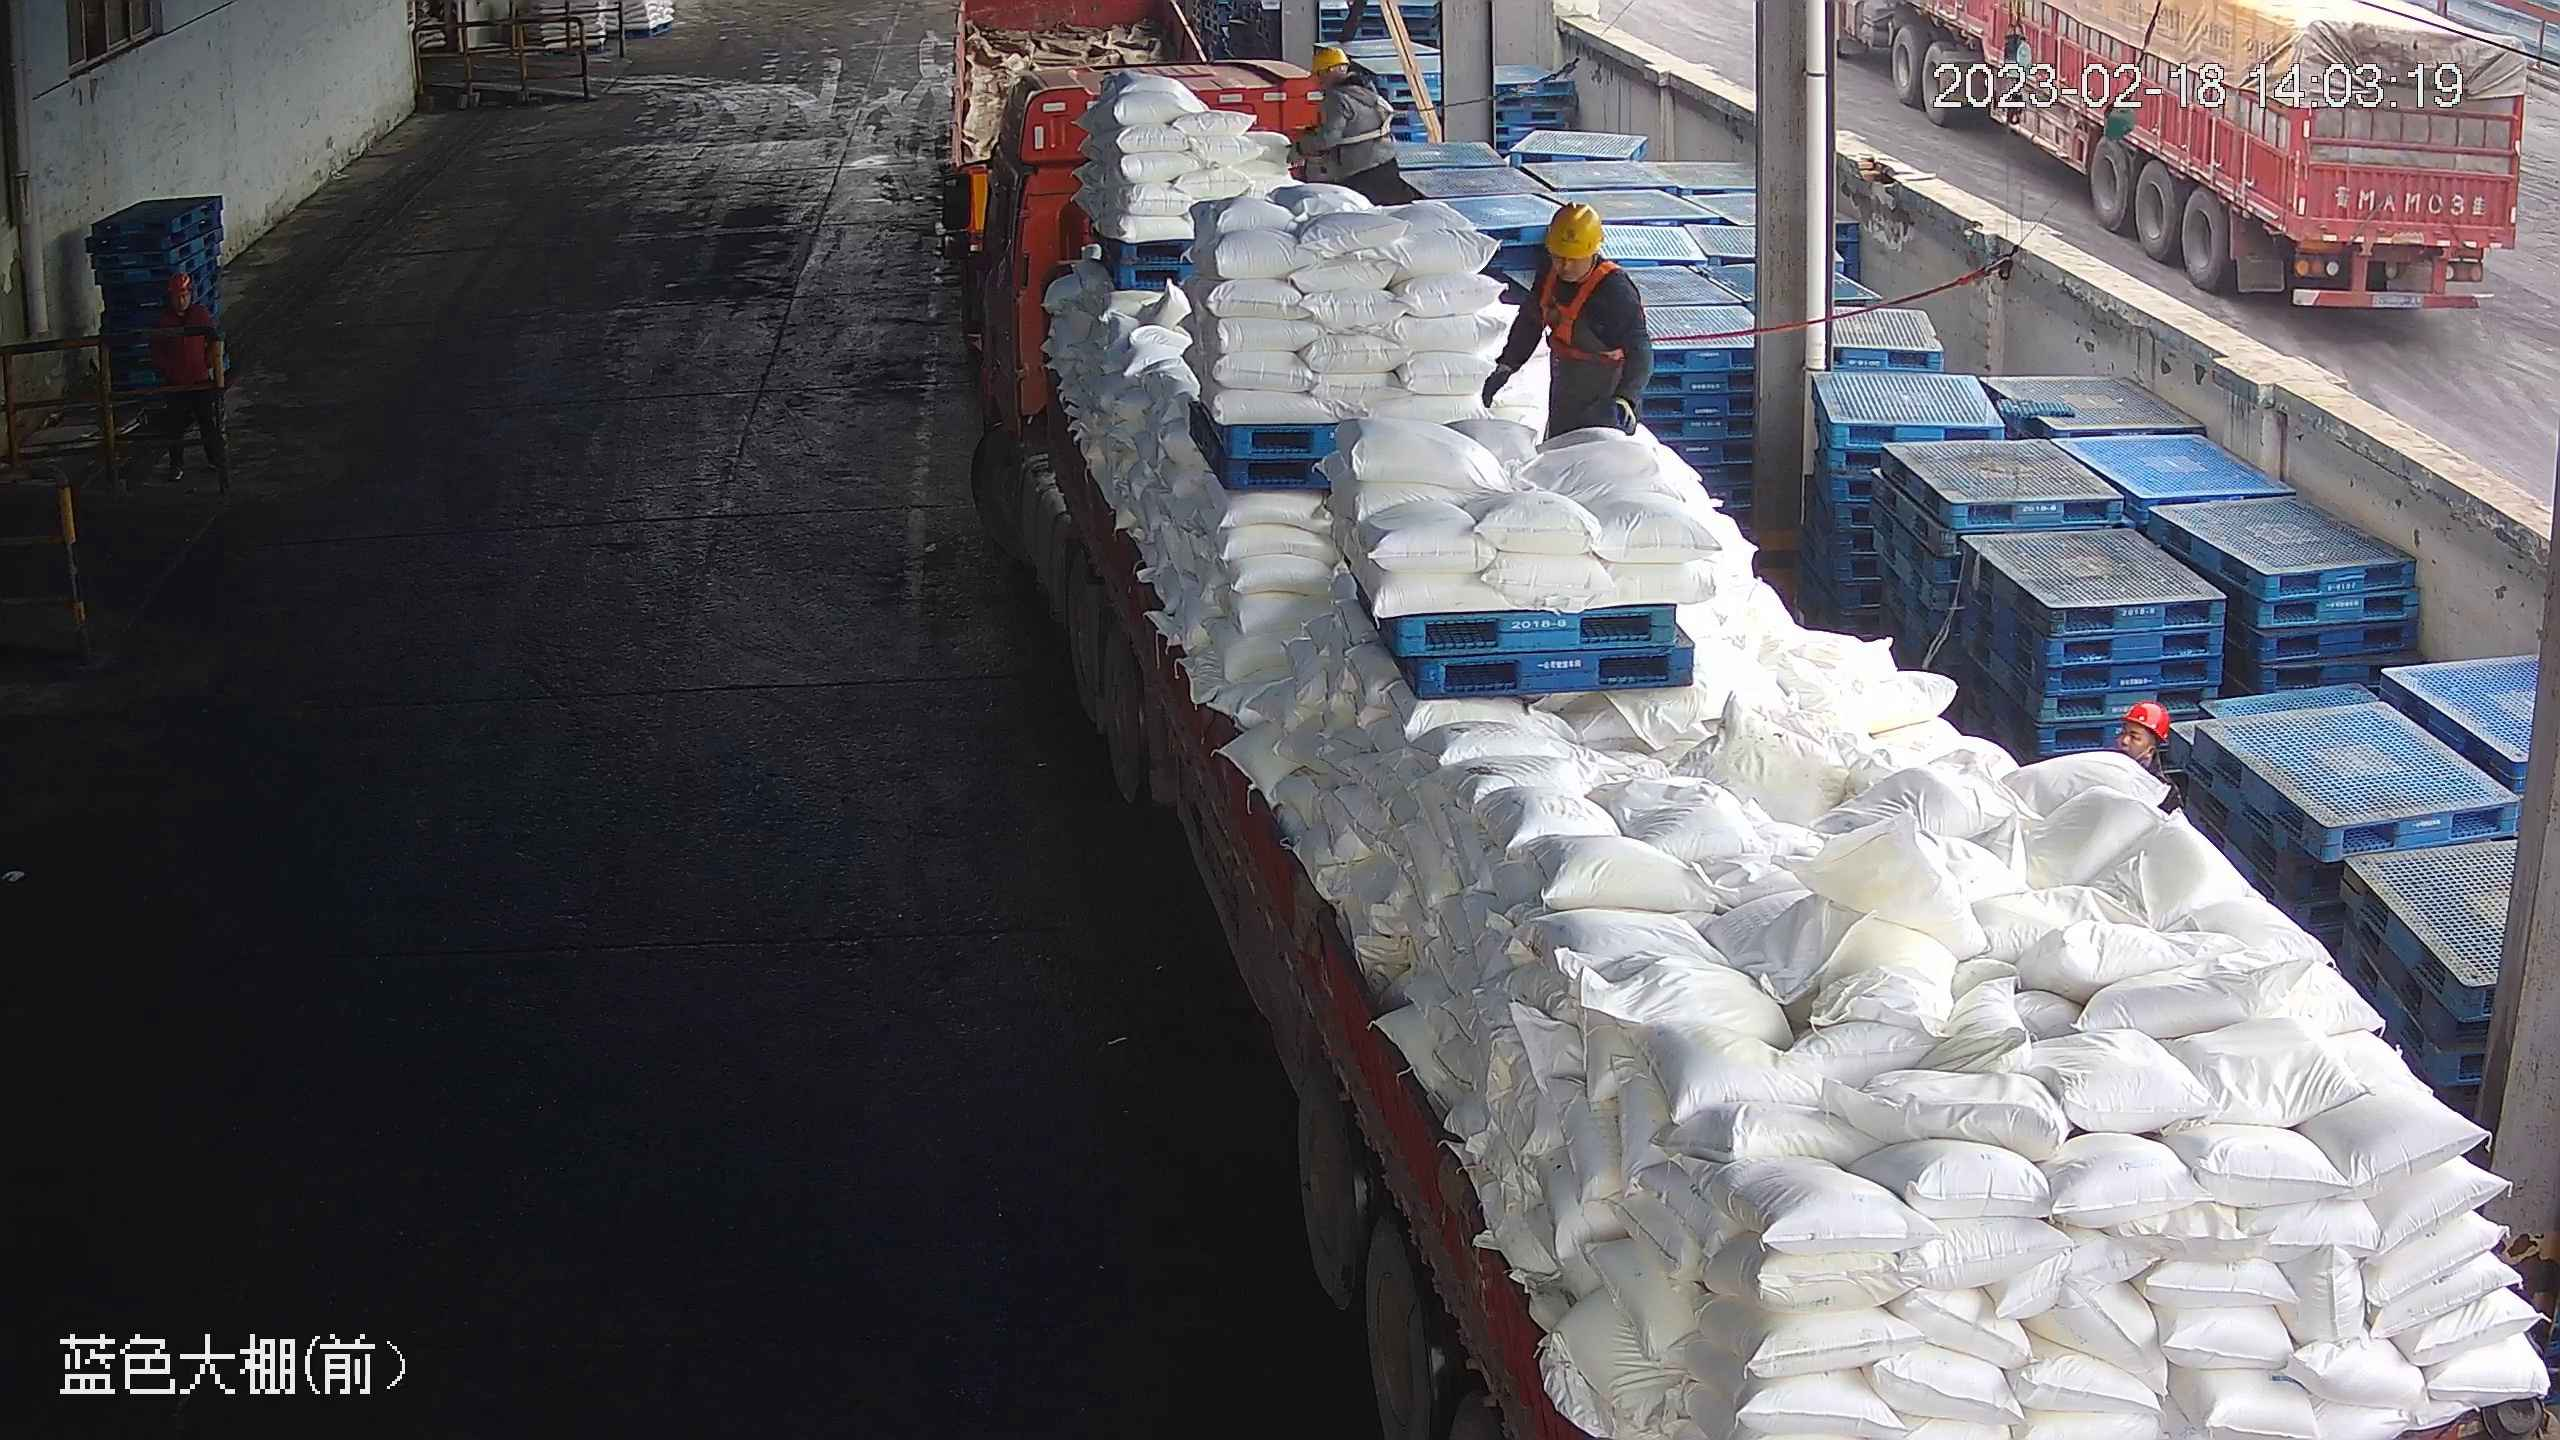belt: (1503, 205, 1643, 431), (1526, 254, 1628, 358), (1329, 77, 1399, 151)
head: (1518, 198, 1642, 314), (1296, 44, 1389, 117)
helmet: (1541, 197, 1607, 260), (1305, 45, 1352, 75)
people: (1482, 199, 1653, 451), (1284, 45, 1411, 203)
truck: (959, 130, 2557, 1437), (1784, 3, 2539, 374), (933, 5, 1221, 240)
